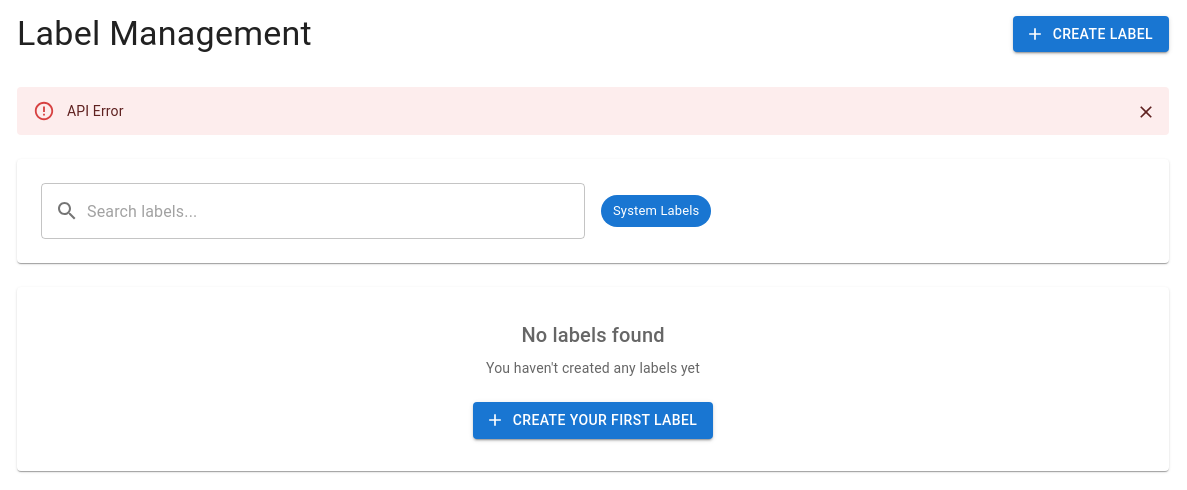
Test: LabelsPage Component › Error Handling › should allow dismissing error alert
The image size is (1187, 490).
Expected: the text "API Error" is shown, top-left (67, 103), bottom-right (124, 119)
Click the button named "Close" at (1146, 112), box top-left (1131, 97), bottom-right (1161, 127)
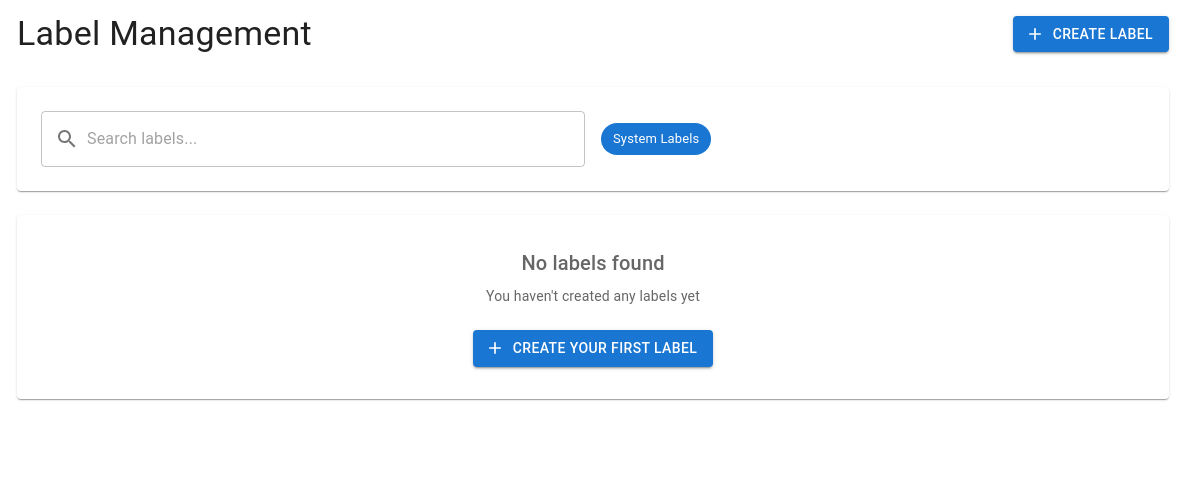
Result: the text "API Error" is gone
